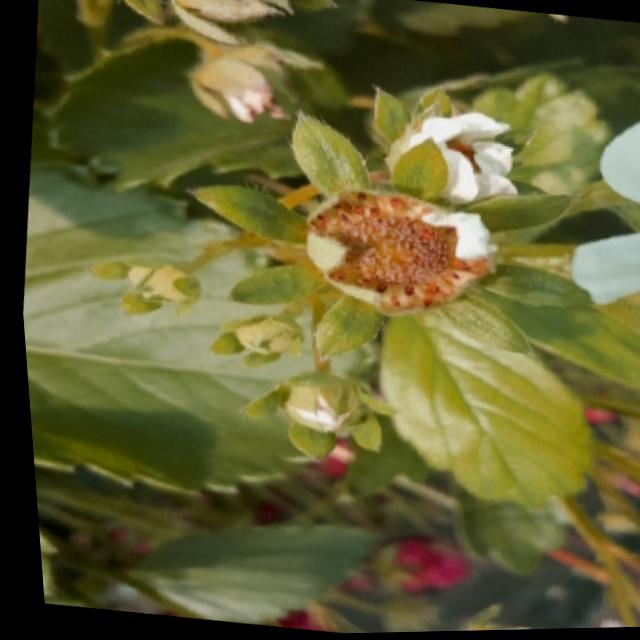Blossom Blight: (304, 189, 487, 317)
